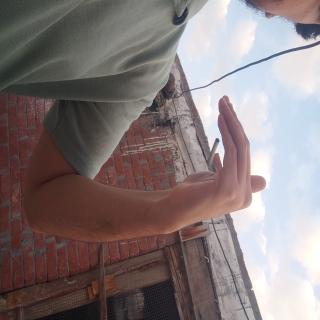KHAA: (72, 70, 190, 229)
